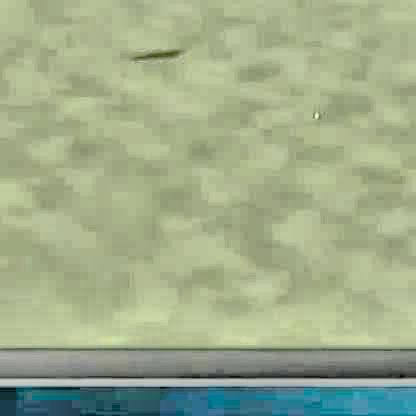golfball: (310, 109, 317, 116)
